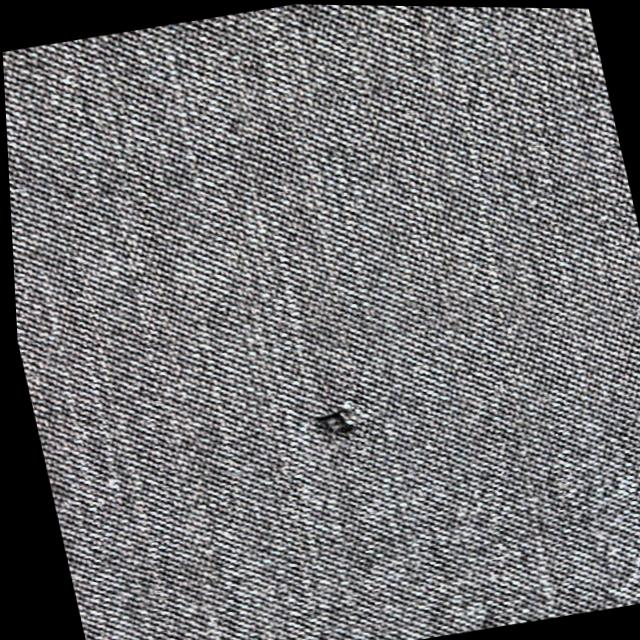Hole: (276, 375, 389, 470)
